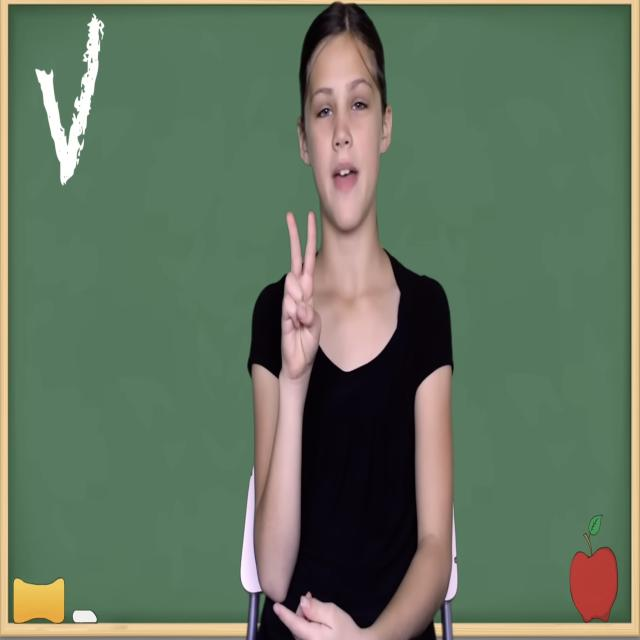V: (274, 202, 326, 412)
